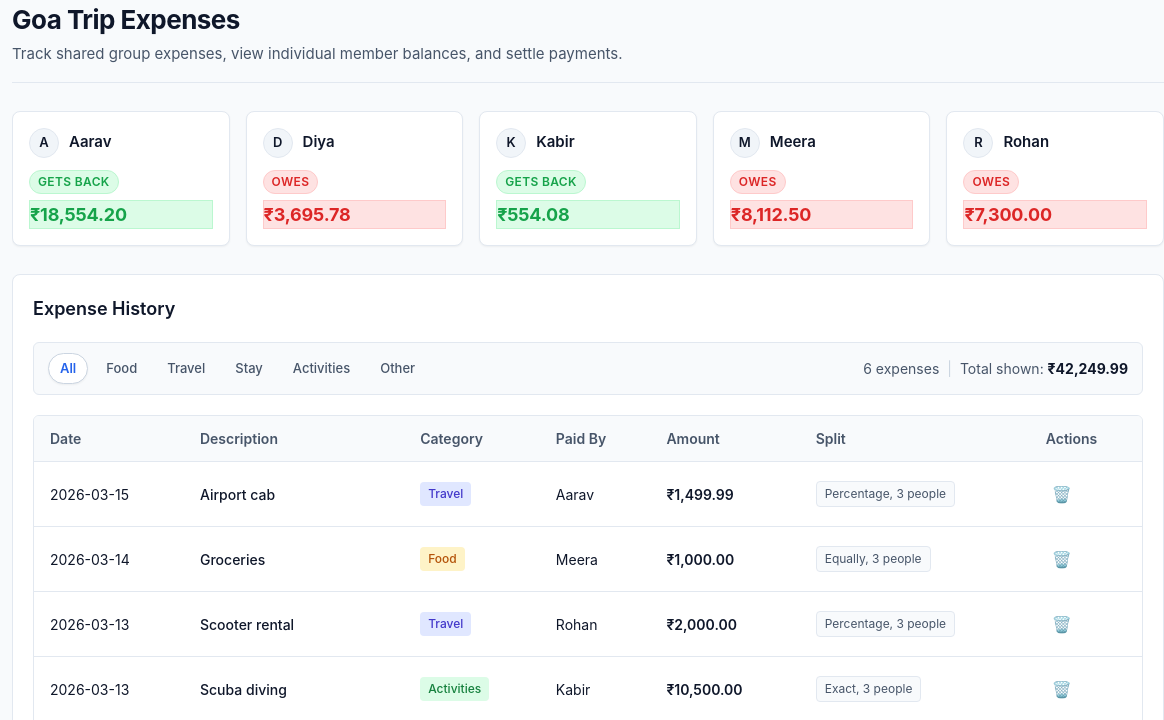
Test: ExpensesPage Integration › filters expenses by category and updates visible total
Check: the text "6 expenses" is shown, box x1=863 y1=358 x2=939 y2=379
Note: Click "Food" filter
Click the radio button labelled "Food": (122, 368) x1=94 y1=352 x2=149 y2=384
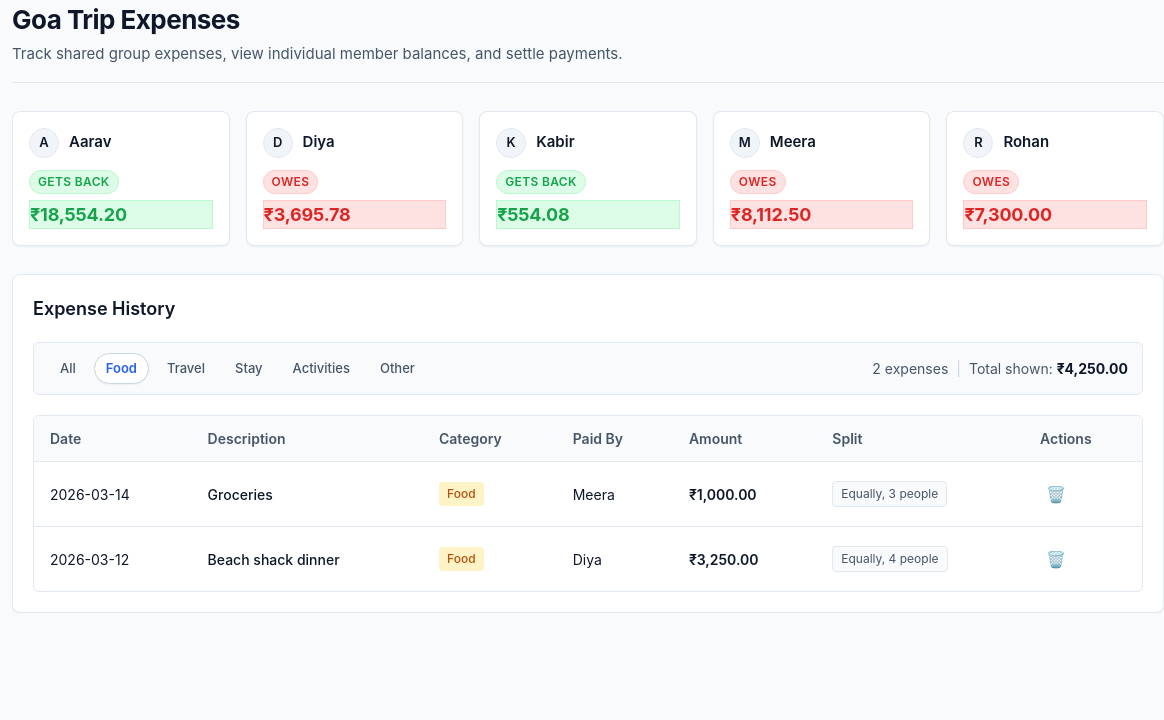
Check: the text "Scuba diving" is gone
Check: the text "2 expenses" is shown, box x1=872 y1=358 x2=948 y2=379
Check: the text "₹4,250.00" is shown, box x1=1057 y1=360 x2=1128 y2=377
